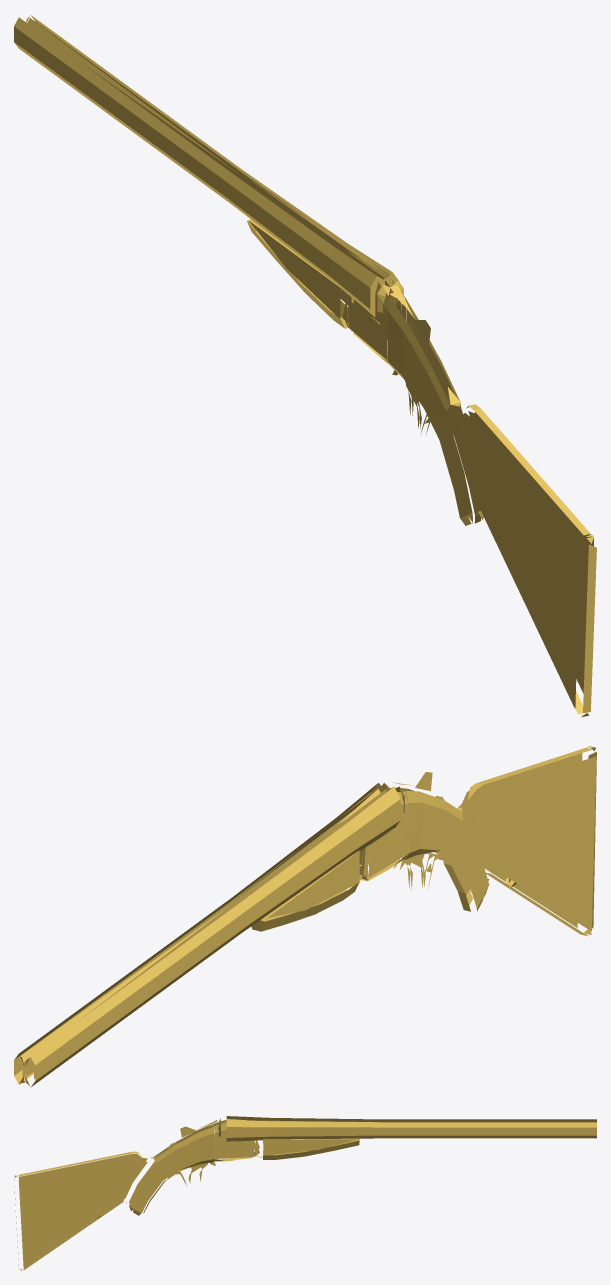
Rendered from charm_mst_shotgun_4.glb.
The picture shows the model from 3 angles, top to bottom: view 1: azimuth 30°, elevation 25°; view 2: azimuth 150°, elevation 25°; view 3: azimuth 270°, elevation 25°; orthographic projection. The views are drawn at different scales.
Visible parts, largest first — view 1: p0_paint; view 2: p0_paint; view 3: p0_paint.
Boxes of the visible parts, x1,y1,x2,y2 form: p0_paint: [14, 15, 596, 717]; p0_paint: [14, 746, 596, 1087]; p0_paint: [14, 1116, 596, 1270].
Size of the model in its own units: 0.0335 by 0.3279 by 1.14.
